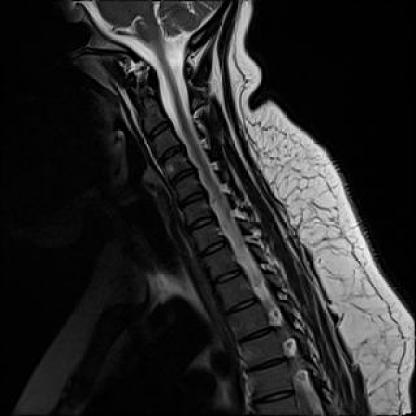Annular Disc Relaxationrotation: (174, 192, 209, 205), (167, 170, 199, 184)
